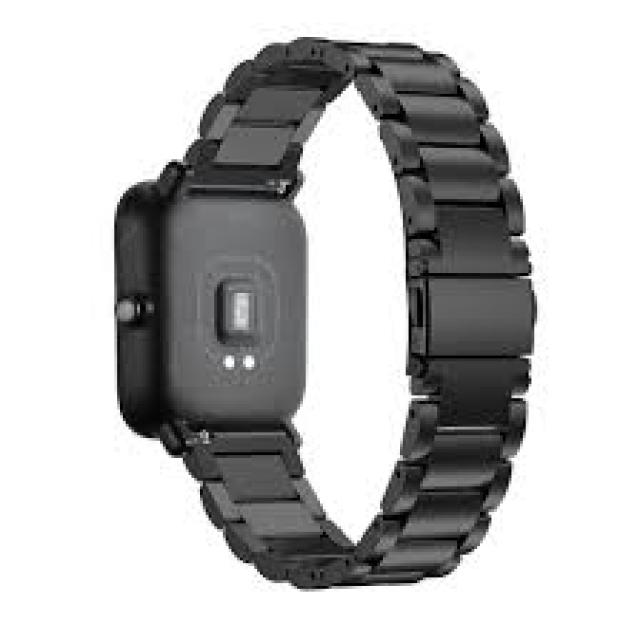objects: (108, 34, 534, 586)
